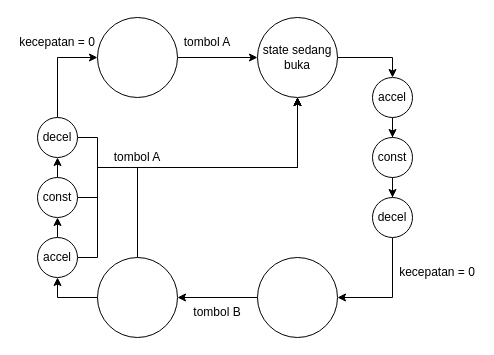
Image size: 494x355. Some labels were removed from this diagram. Here are the shapes that lost their labels. From the top down, the centre of each, then its label:
pixel 137 57: state tertutup
pixel 137 297: state sedang tutup
pixel 297 297: state terbuka
